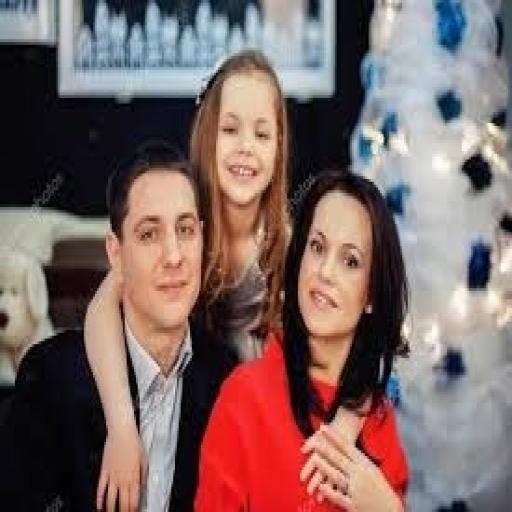hugging: (2, 45, 415, 509), (2, 143, 236, 509), (192, 168, 413, 509)
